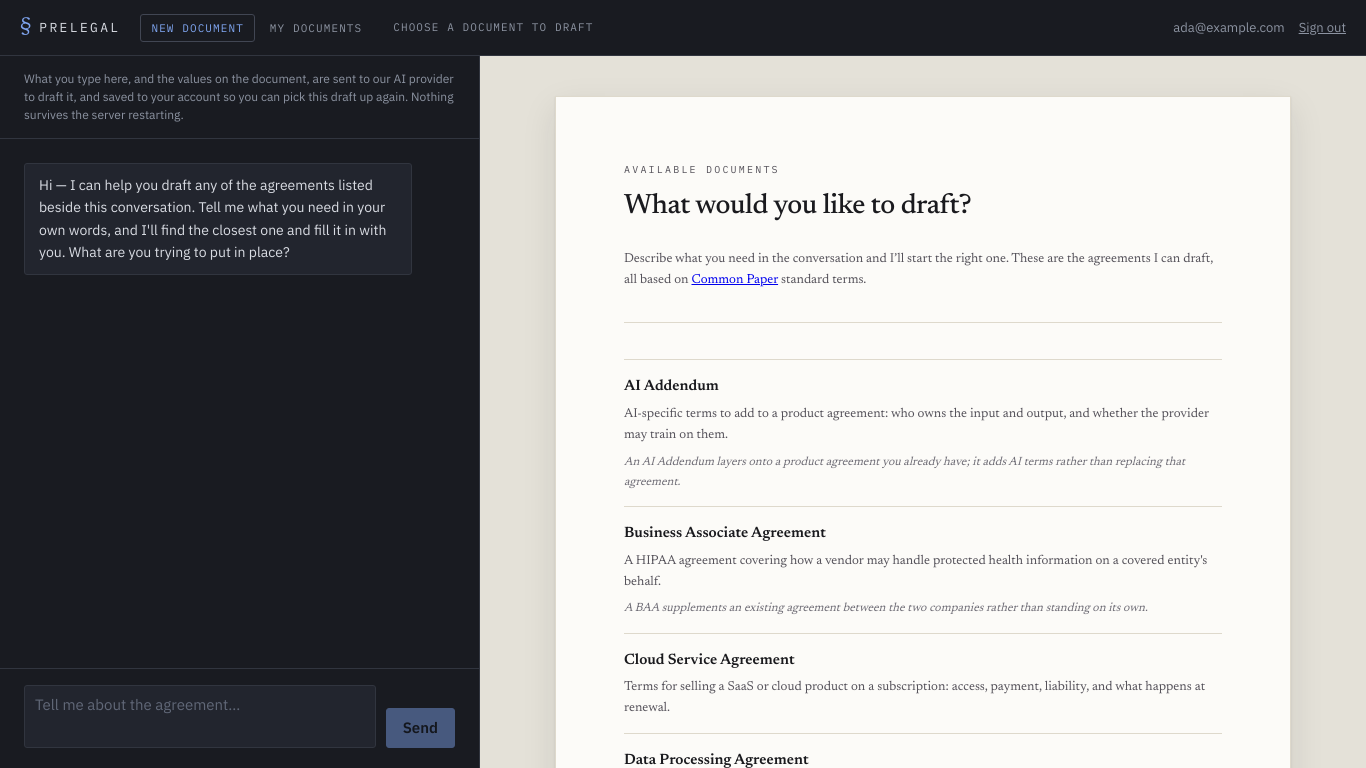
Test: DocumentWorkspace › a generically rendered document › renders the parsed standard terms
The width and height of the screenshot is (1366, 768).
Type "We want a 30 day trial." into the text box named "Your message" at {"x": 200, "y": 716}, box x1=24 y1=685 x2=376 y2=748
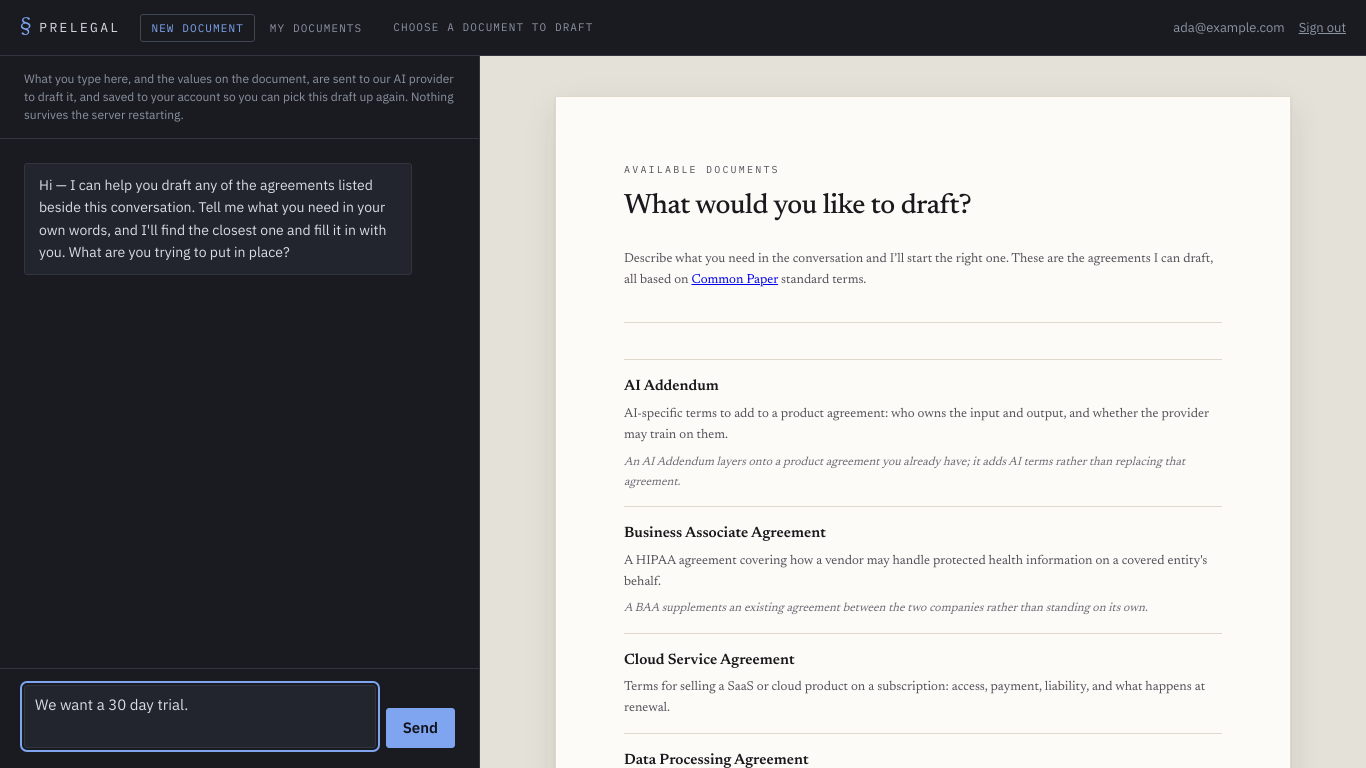
Click the button "Send" at {"x": 420, "y": 728}, box x1=386 y1=708 x2=455 y2=748
(page scrolled)
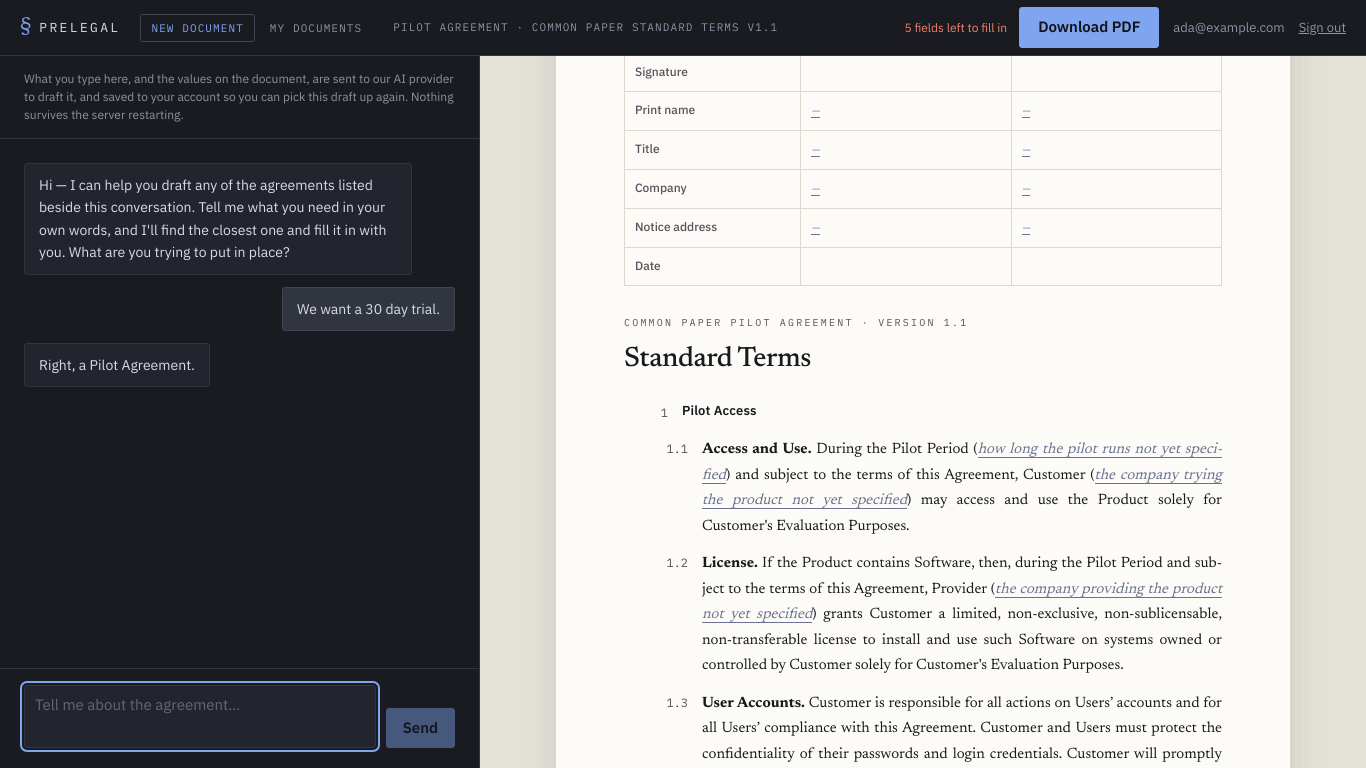
Check: the text "Right, a Pilot Agreement." is shown, box x1=24 y1=343 x2=210 y2=387
Check: the heading "Pilot Access" is shown, box x1=682 y1=400 x2=757 y2=423
